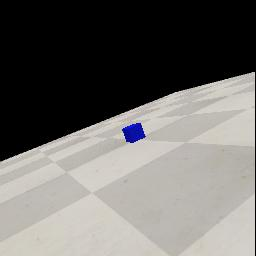box: (122, 123, 146, 143)
